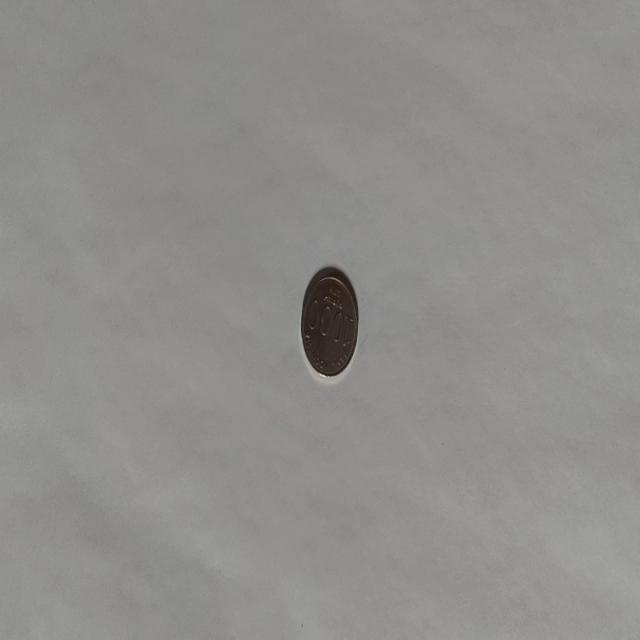seribu rupiah koin: (299, 264, 359, 380)
